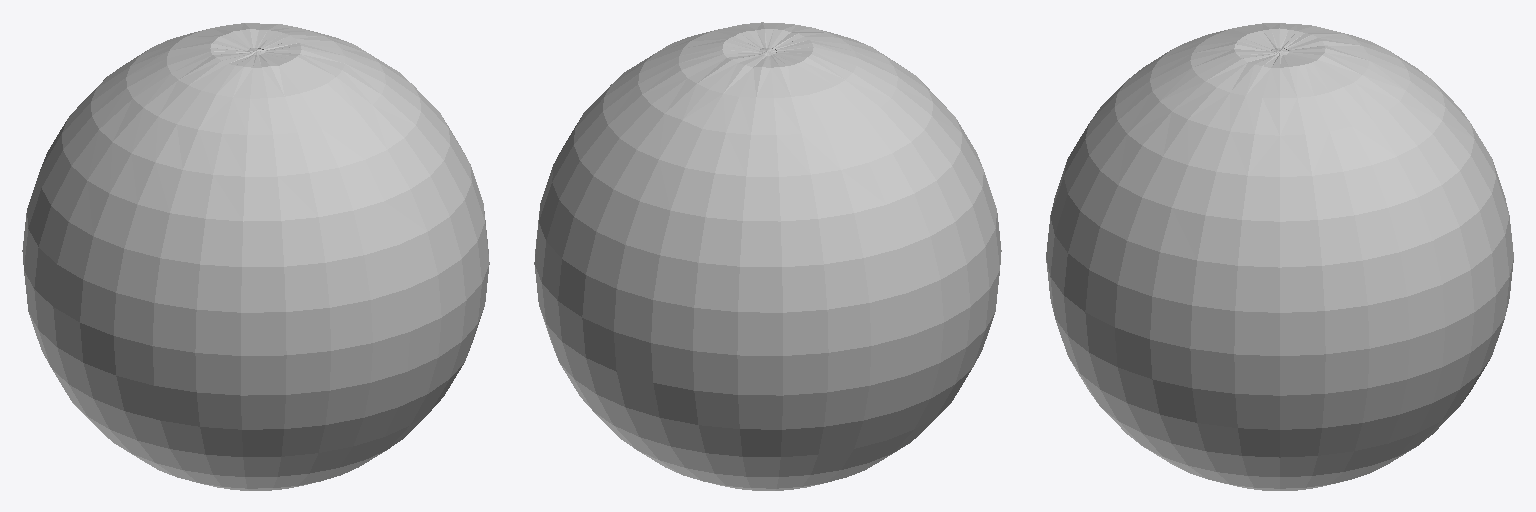
File: Orange.obj
The picture shows the model from 3 angles: view 1: azimuth 30°, elevation 25°; view 2: azimuth 150°, elevation 25°; view 3: azimuth 270°, elevation 25°; orthographic projection.
Parts seen in each view (by area): view 1: Orange; view 2: Orange; view 3: Orange.
Part boxes in pixels (x1,y1,x2,y2): Orange: (22, 23, 489, 490); Orange: (534, 22, 1001, 490); Orange: (1046, 23, 1513, 490).
Bounding box in the file's own units: 2 × 1.96 × 2.